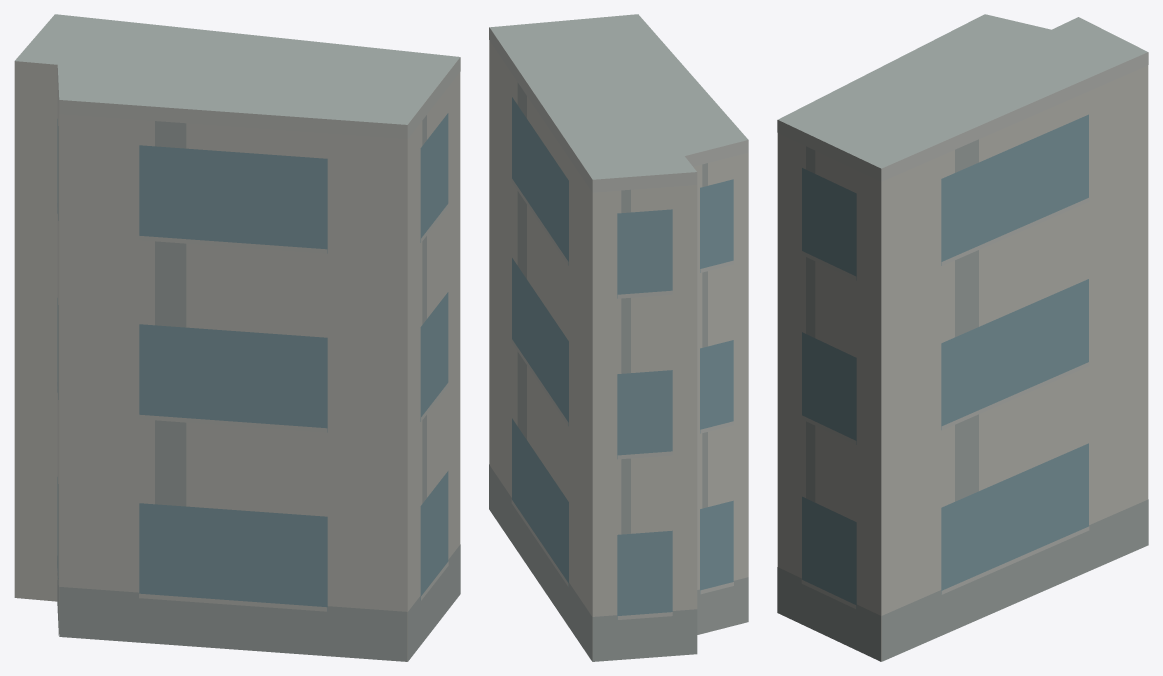
Rendered from survey-upis-32934393.glb.
3 views of the same model, side by side, from view 1: azimuth 30°, elevation 25°; view 2: azimuth 150°, elevation 25°; view 3: azimuth 270°, elevation 25° (orthographic). The views are drawn at different scales.
Visible parts, largest first — view 1: survey-upis-32934393.tmp; view 2: survey-upis-32934393.tmp; view 3: survey-upis-32934393.tmp.
Boxes of the visible parts, x1,y1,x2,y2 form: survey-upis-32934393.tmp: (14, 14, 460, 661); survey-upis-32934393.tmp: (489, 14, 748, 661); survey-upis-32934393.tmp: (777, 14, 1148, 661).
Bounding box in the file's own units: 6.16 × 9.15 × 6.24.
